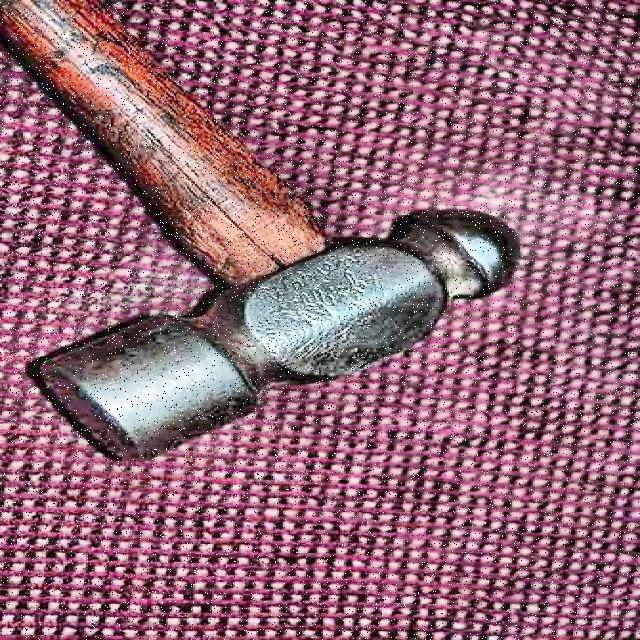hammer: (0, 0, 525, 465)
